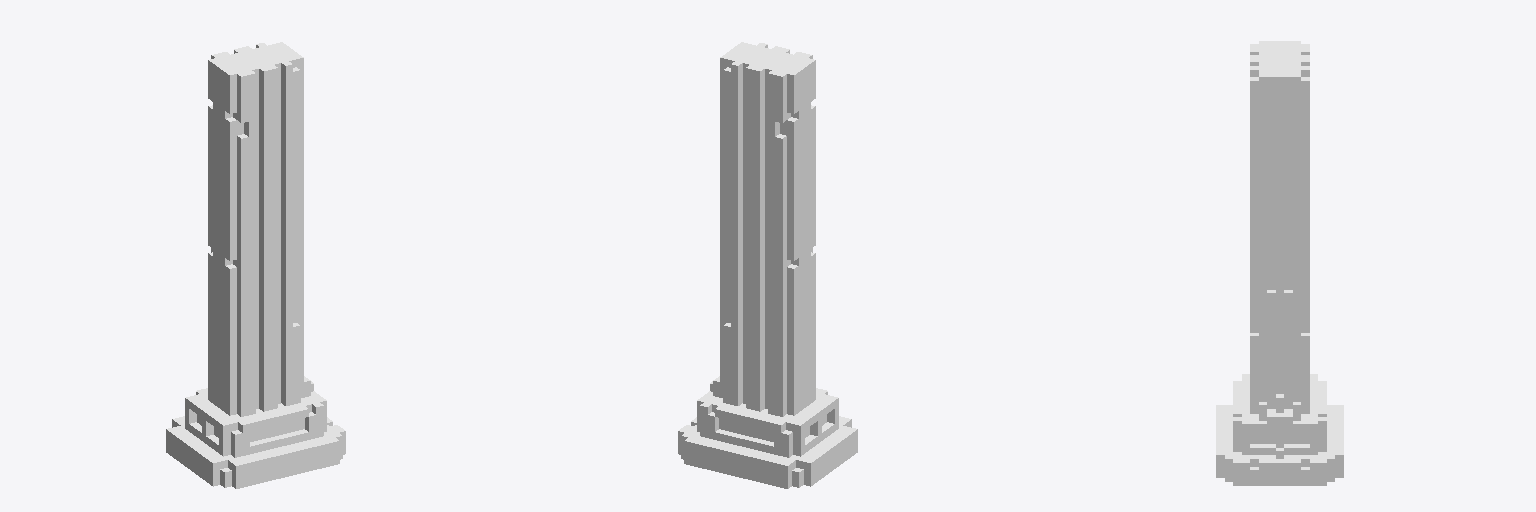
File: FullColumn.obj
3 views of the same model, side by side, from view 1: azimuth 30°, elevation 25°; view 2: azimuth 150°, elevation 25°; view 3: azimuth 270°, elevation 25° (orthographic).
Visible parts, largest first — view 1: Columns; view 2: Columns; view 3: Columns.
Boxes of the visible parts, x1=… form: Columns: x1=166, y1=42, x2=345, y2=488; Columns: x1=678, y1=42, x2=857, y2=488; Columns: x1=1216, y1=41, x2=1343, y2=485.
Size of the model in its own units: 1.8 by 5.1 by 1.5.